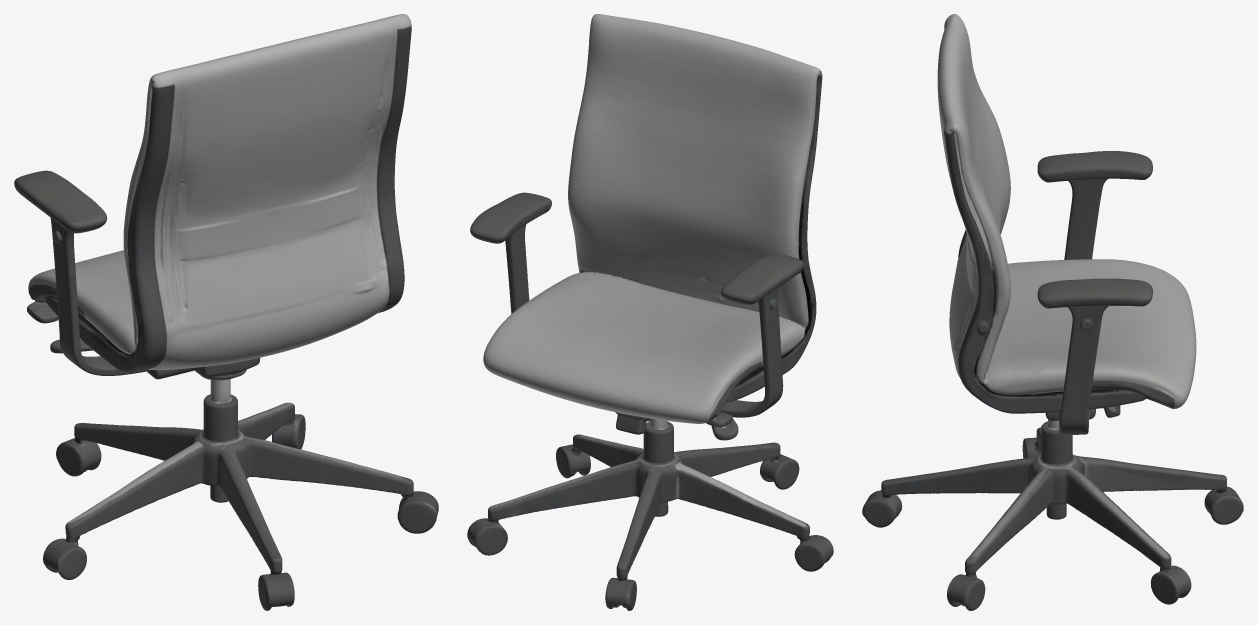
File: modern_office_chair_padded_23.glb
The picture shows the model from 3 angles, left to right: view 1: azimuth 30°, elevation 25°; view 2: azimuth 150°, elevation 25°; view 3: azimuth 270°, elevation 25°; orthographic projection. The views are drawn at different scales.
Visible parts, largest first — view 1: tripo_node_87852bc2-1e97-43a7-8a81-ec4e3a9417df; view 2: tripo_node_87852bc2-1e97-43a7-8a81-ec4e3a9417df; view 3: tripo_node_87852bc2-1e97-43a7-8a81-ec4e3a9417df.
Part boxes in pixels (x1,y1,x2,y2): tripo_node_87852bc2-1e97-43a7-8a81-ec4e3a9417df: (14,14,438,610); tripo_node_87852bc2-1e97-43a7-8a81-ec4e3a9417df: (467,14,833,610); tripo_node_87852bc2-1e97-43a7-8a81-ec4e3a9417df: (862,14,1243,610).
Size of the model in its own units: 0.6994 by 1 by 0.7228.
Materials: 1 (1 with a texture image).
